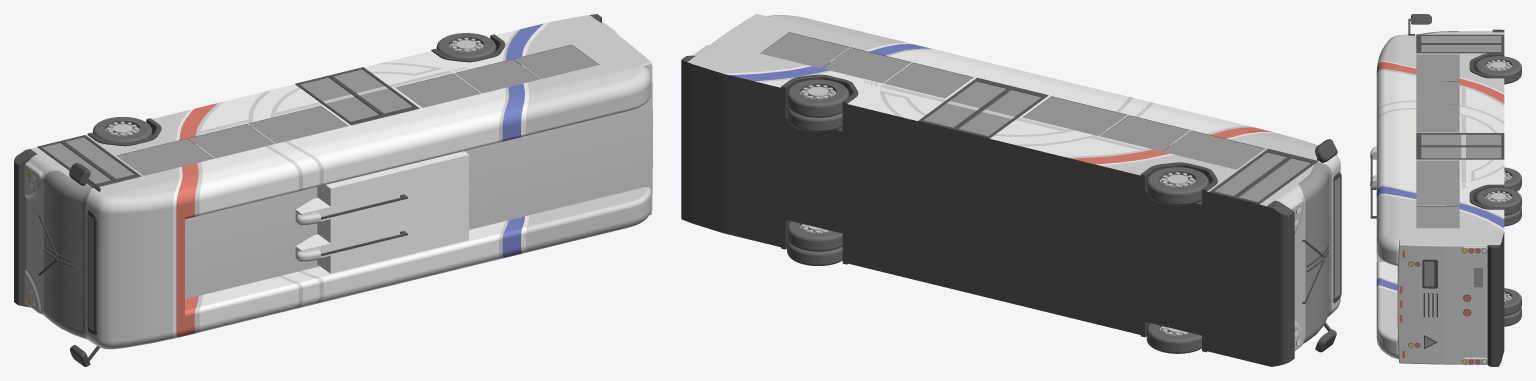
File: ebus.glb
3 renders of one model, left to right at view 1: azimuth 30°, elevation 25°; view 2: azimuth 150°, elevation 25°; view 3: azimuth 270°, elevation 25°, orthographic. The views are drawn at different scales.
Visible parts, largest first — view 1: Ogden Ebus v3; view 2: Ogden Ebus v3; view 3: Ogden Ebus v3.
Boxes of the visible parts, <box> form: Ogden Ebus v3: <box>14,14,652,366</box>; Ogden Ebus v3: <box>681,14,1341,366</box>; Ogden Ebus v3: <box>1370,14,1521,366</box>.
Size of the model in its own units: 20 by 6.46 by 5.76.
